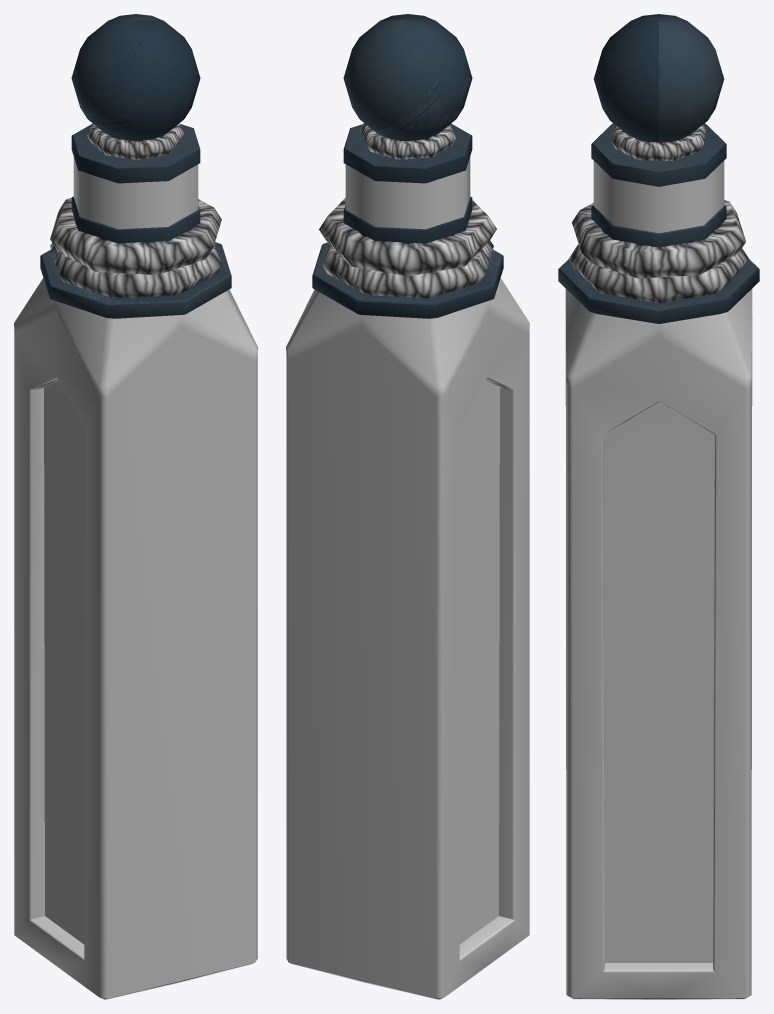
The model's file is SM_Bridge_handrail_column_1.fbx.
3 renders of one model, left to right at view 1: azimuth 30°, elevation 25°; view 2: azimuth 150°, elevation 25°; view 3: azimuth 270°, elevation 25°, orthographic.
Parts seen in each view (by area): view 1: SM_Bridge_handrail_column_1_LOD0; view 2: SM_Bridge_handrail_column_1_LOD0; view 3: SM_Bridge_handrail_column_1_LOD0.
Boxes of the visible parts, x1=… form: SM_Bridge_handrail_column_1_LOD0: x1=14, y1=14, x2=257, y2=999; SM_Bridge_handrail_column_1_LOD0: x1=286, y1=14, x2=529, y2=999; SM_Bridge_handrail_column_1_LOD0: x1=558, y1=14, x2=759, y2=999.
Bounding box in the file's own units: 54.63 × 54.63 × 283.
